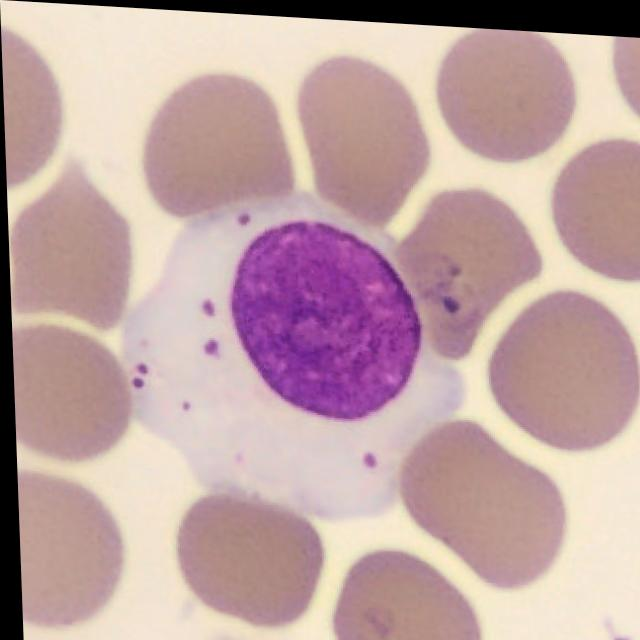Linfocito atipico: (124, 207, 465, 513)
